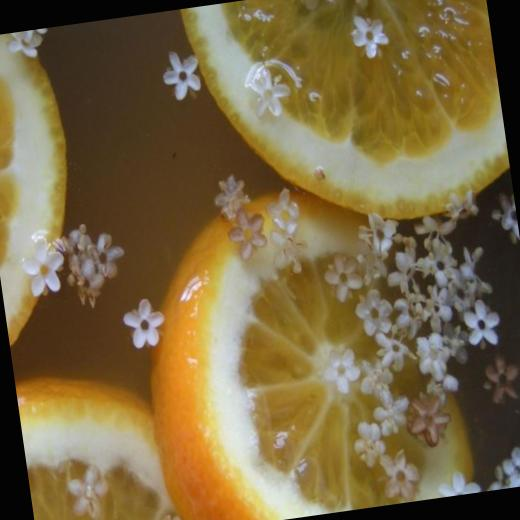Grape: (126, 167, 478, 520), (203, 0, 511, 238), (0, 27, 91, 343), (15, 359, 183, 520)
